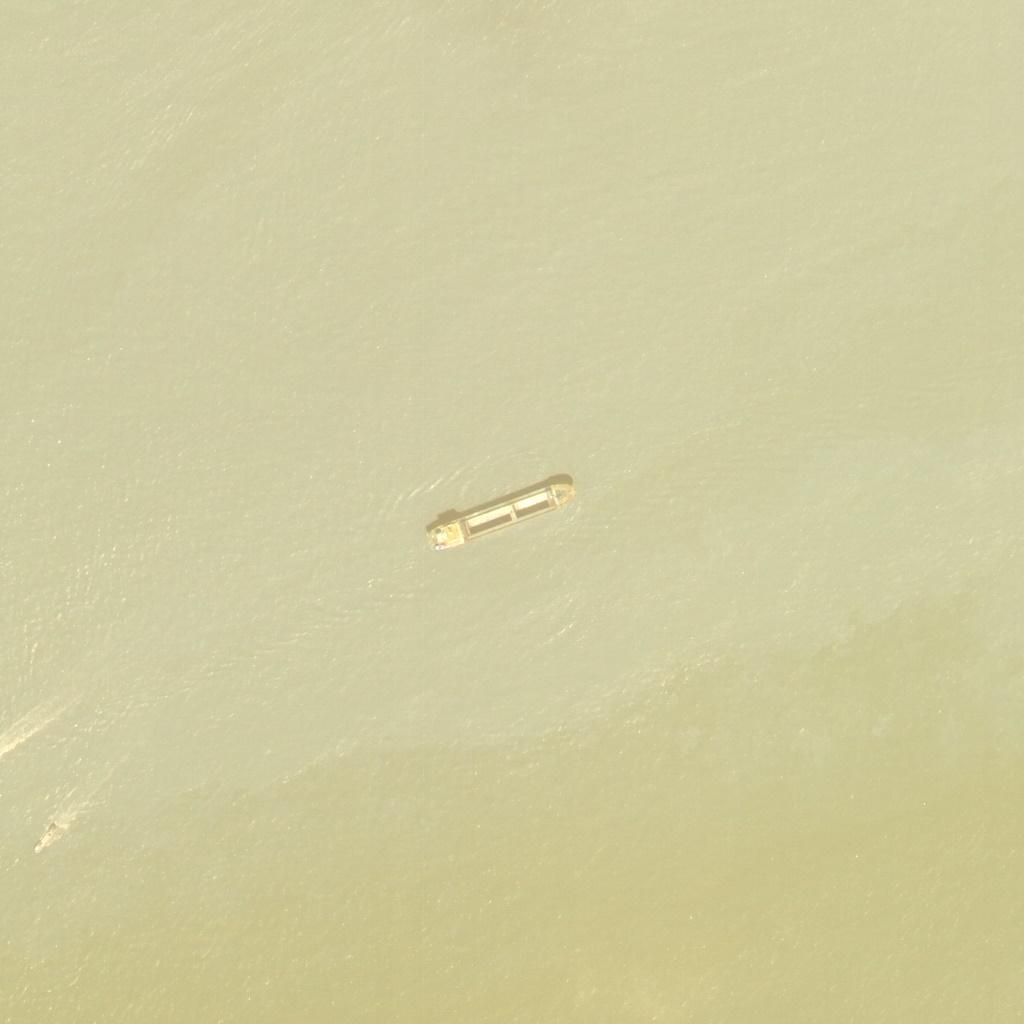ship: (425, 474, 583, 552)
